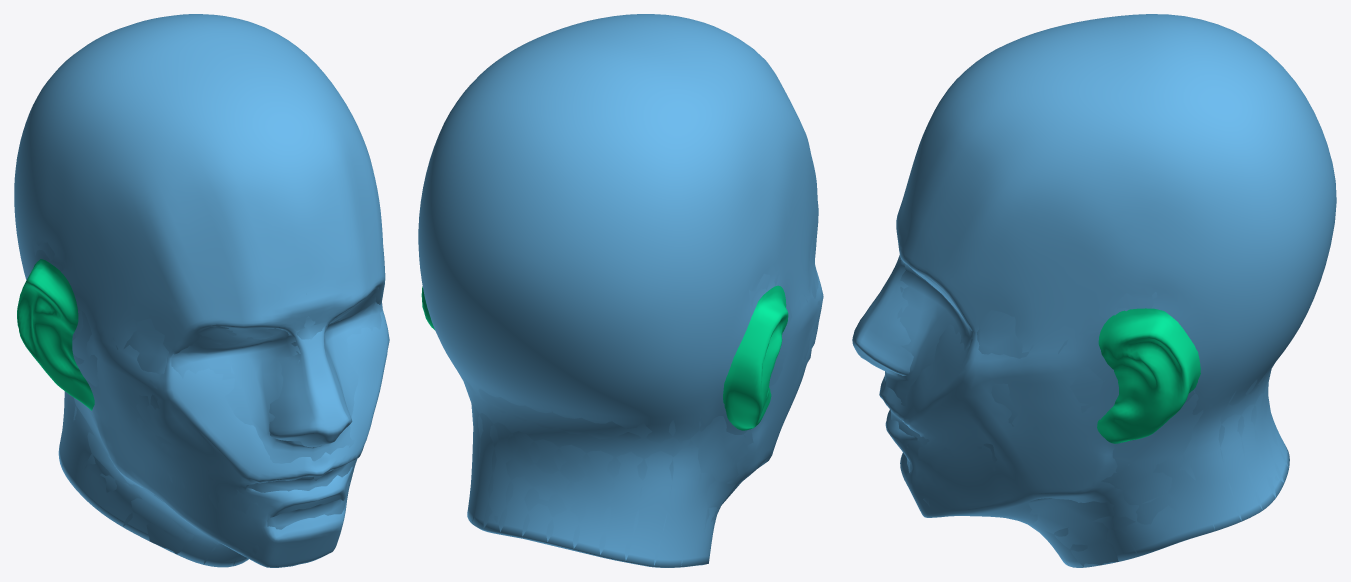
Rendered from HeadVisualizer.fbx.
3 renders of one model, left to right at view 1: azimuth 30°, elevation 25°; view 2: azimuth 150°, elevation 25°; view 3: azimuth 270°, elevation 25°, orthographic. The views are drawn at different scales.
Visible parts, largest first — view 1: Head, Retopo_Head.001, EarRight; view 2: Head, Retopo_Head.001, EarRight; view 3: Head, Retopo_Head.001, EarLeft.
Boxes of the visible parts, x1,y1,x2,y2 form: Head: (14, 14, 389, 567); Retopo_Head.001: (33, 237, 382, 565); EarRight: (17, 259, 94, 410); Head: (418, 14, 823, 567); Retopo_Head.001: (461, 239, 820, 565); EarRight: (723, 285, 788, 430); Head: (852, 14, 1336, 567); Retopo_Head.001: (884, 109, 1288, 567); EarLeft: (1097, 308, 1200, 443).
Bounding box in the file's own units: 220 × 329 × 276.
